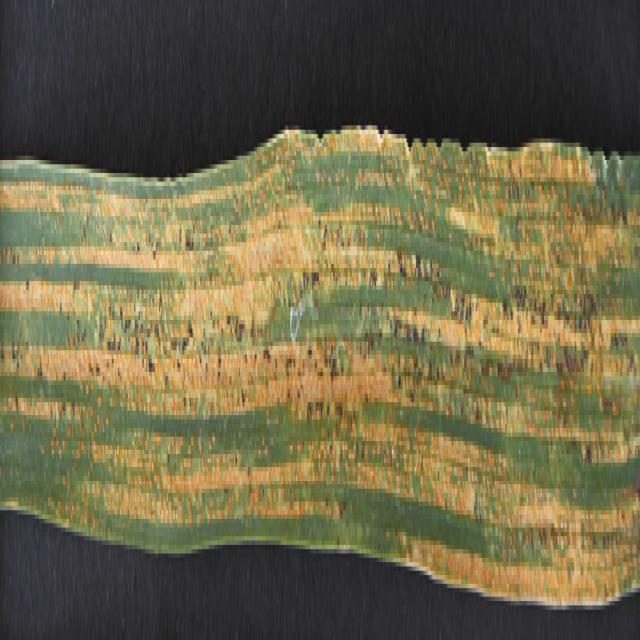leaf rust: (1, 116, 638, 610)
